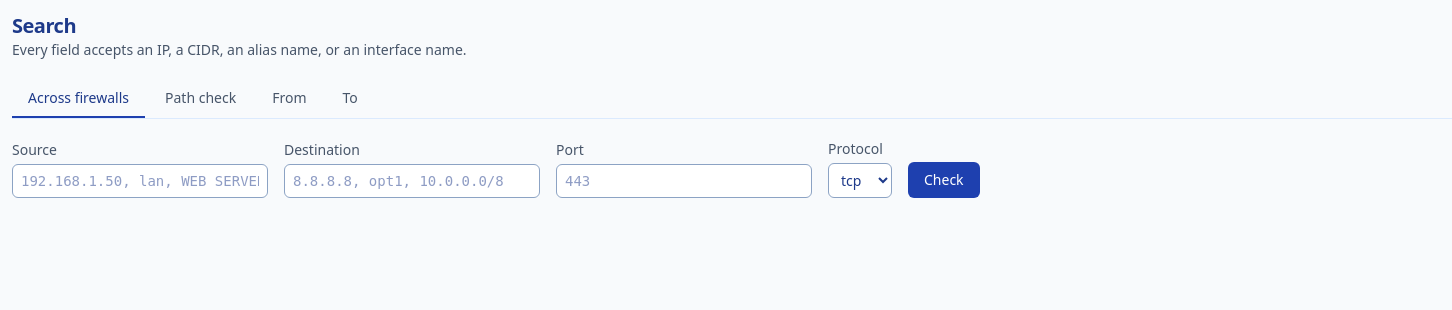
SearchPage › lists sources grouped by interface on the To tab
Click the tab "To" at (350,99), box [326,80,374,118]
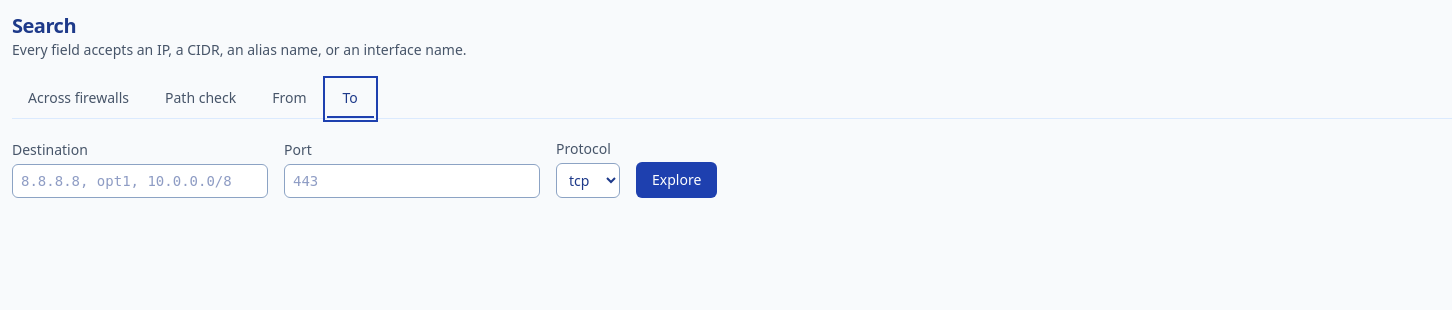
Type "8.8.8.8" into the field labelled "Destination" at (140,181), box [12,164,268,198]
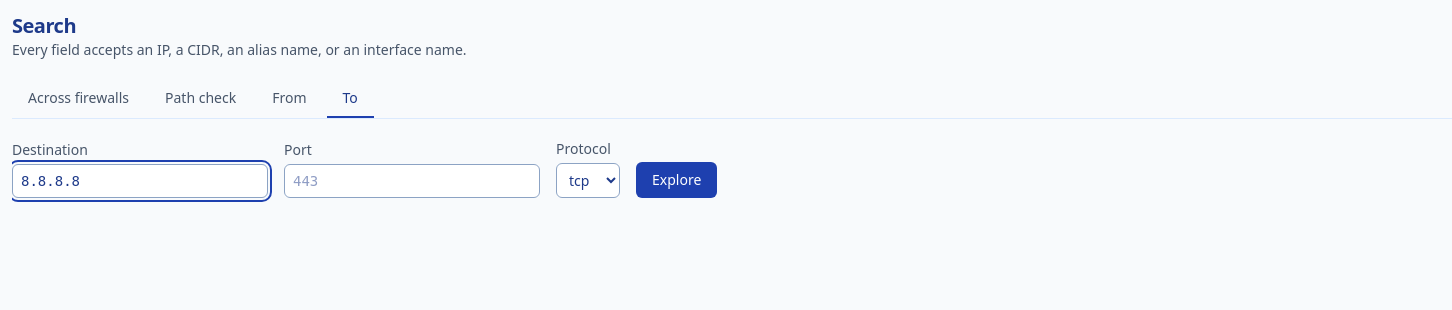
Click the button "Explore" at (677,180), box [636,162,717,198]
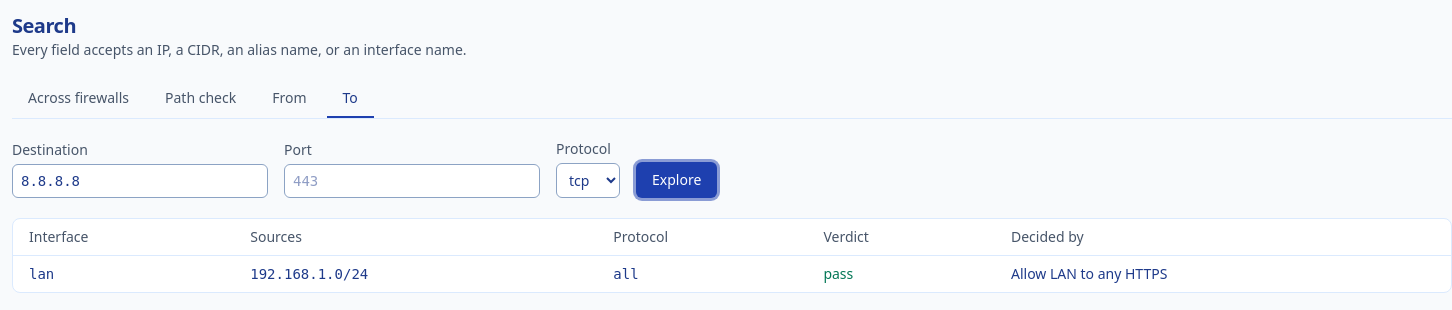
Now the text "192.168.1.0/24" is shown, box [234,256,597,292]
